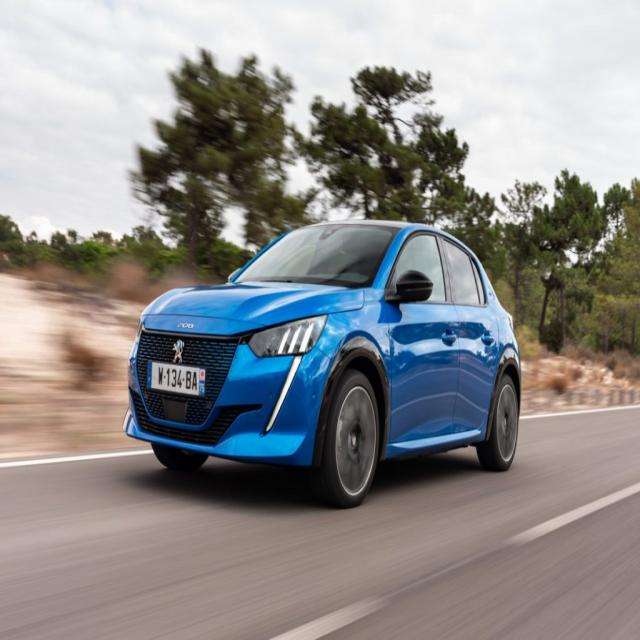yolov7-seg-car: (122, 219, 522, 508)
